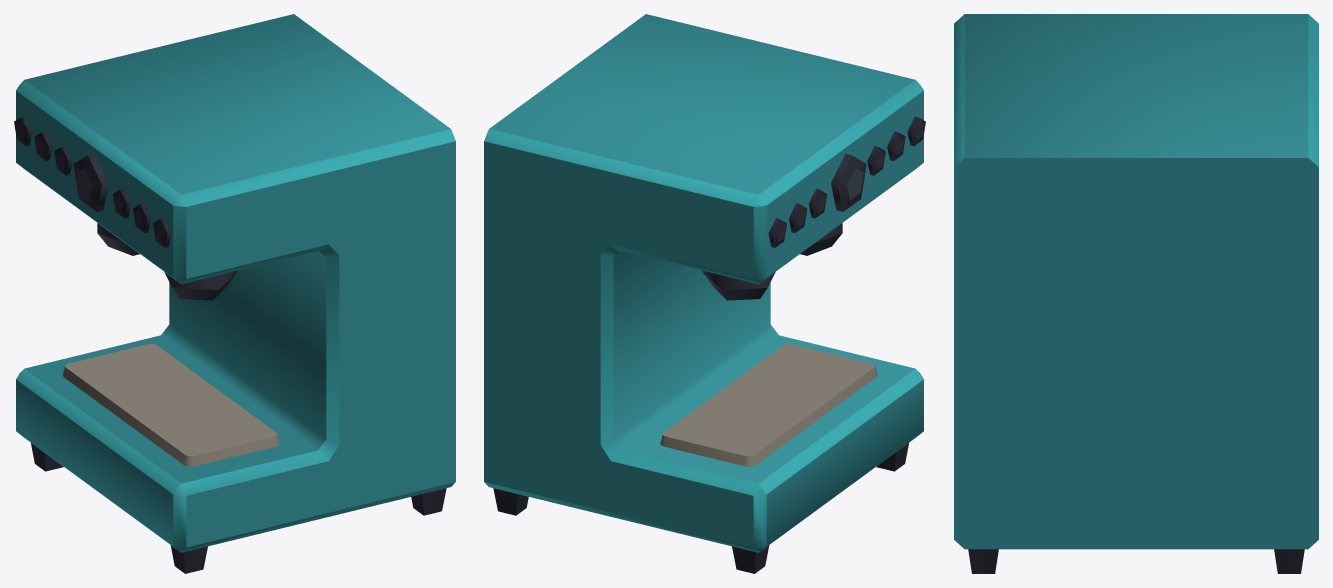
File: CoffeeMachine_1_A.fbx
3 renders of one model, left to right at view 1: azimuth 30°, elevation 25°; view 2: azimuth 150°, elevation 25°; view 3: azimuth 270°, elevation 25°, orthographic. The views are drawn at different scales.
Visible parts, largest first — view 1: CoffeeMachine_1_A; view 2: CoffeeMachine_1_A; view 3: CoffeeMachine_1_A.
Part boxes in pixels (x1=…): CoffeeMachine_1_A: x1=14, y1=14, x2=455, y2=573; CoffeeMachine_1_A: x1=484, y1=14, x2=925, y2=573; CoffeeMachine_1_A: x1=954, y1=14, x2=1318, y2=573.
Bounding box in the file's own units: 48.51 × 61.74 × 48.68.
